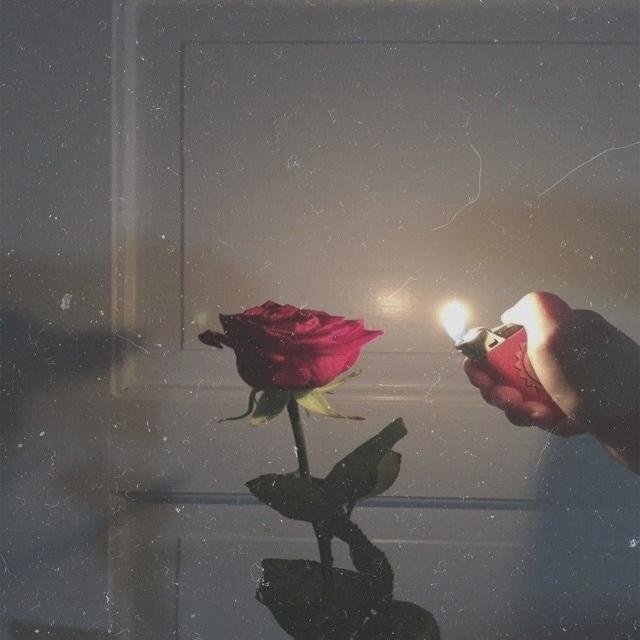fire: (437, 297, 470, 342)
